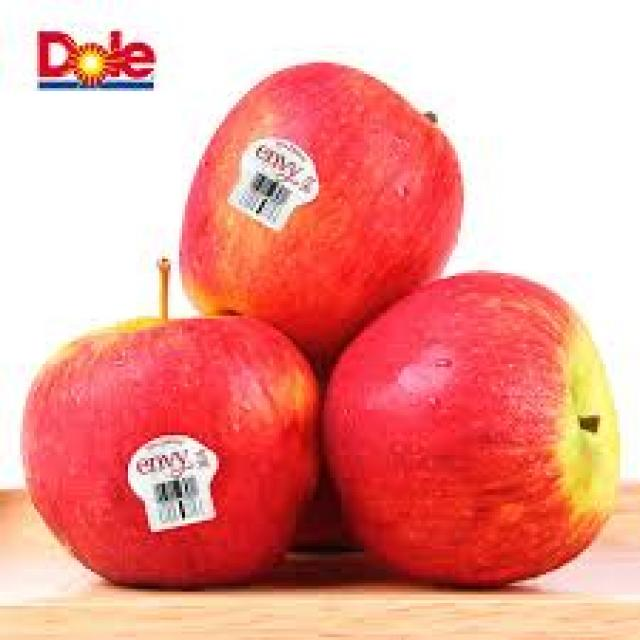organic waste: (313, 267, 614, 586), (173, 57, 461, 373), (22, 313, 316, 594), (284, 475, 353, 563)
